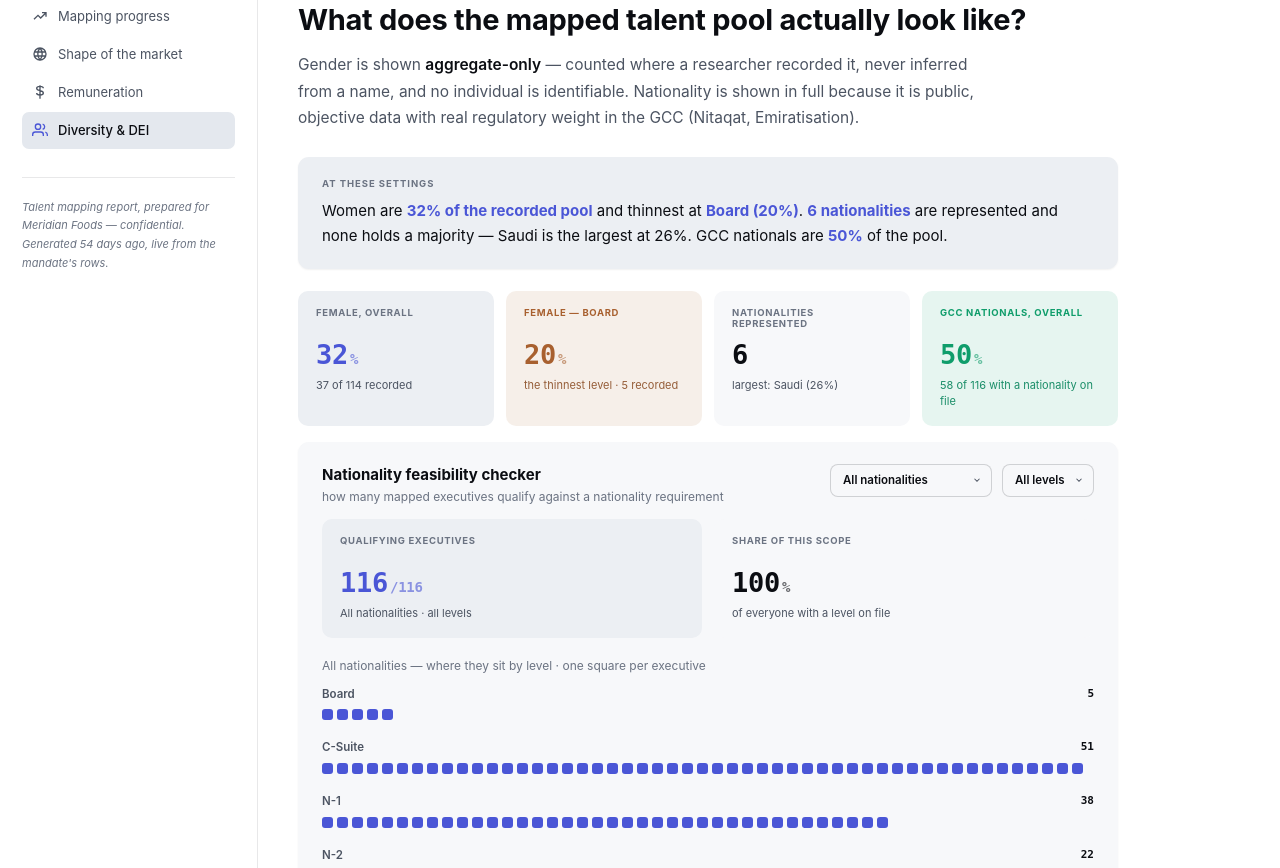
Test: ReportsPage › answers a nationality requirement with the executives who actually qualify
expect the text "6 nationalities" is shown: met, box [807, 201, 911, 220]
Select "GCC nationals" in the dropdown named "Nationality requirement": [911, 480] box [830, 464, 992, 497]
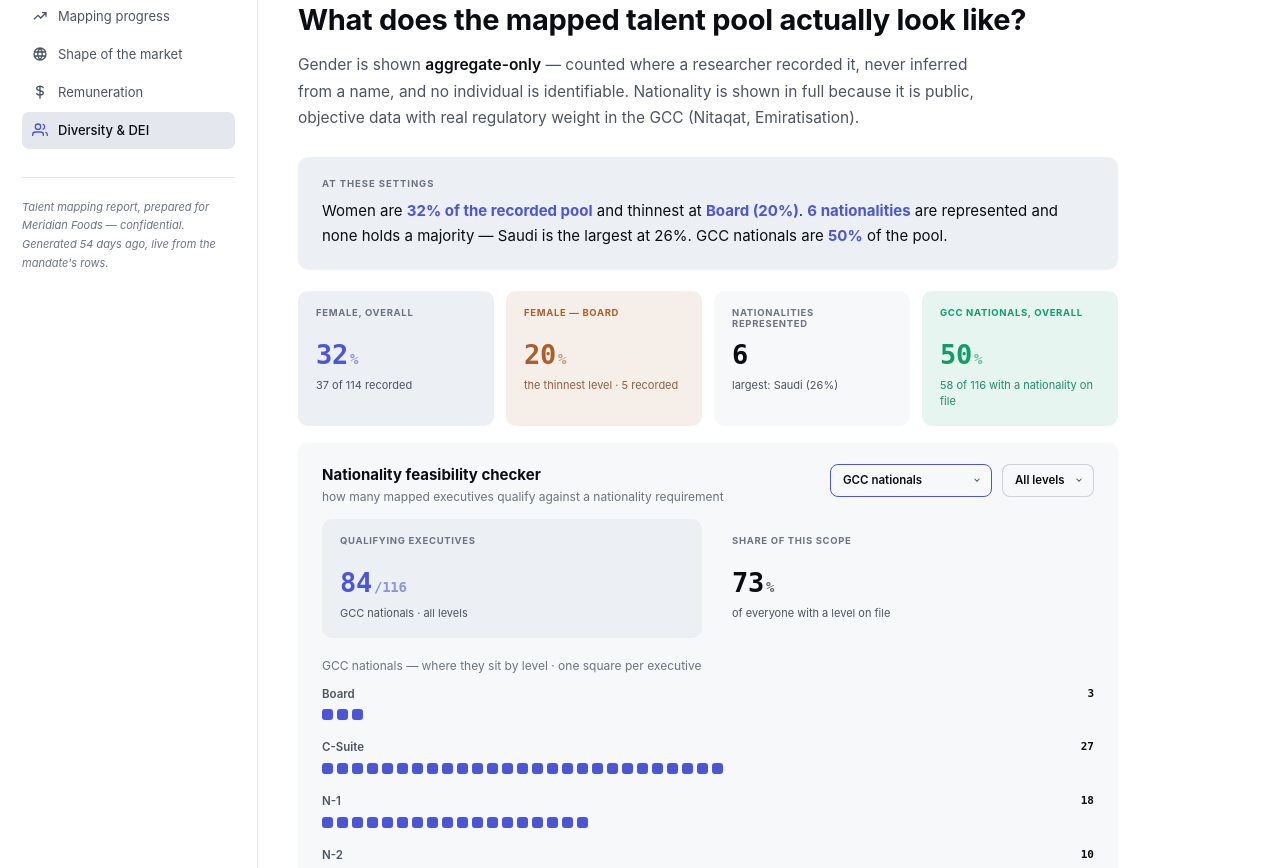
Select "C-Suite" in the dropdown named "Seniority level": [1048, 480] box [1002, 464, 1094, 497]
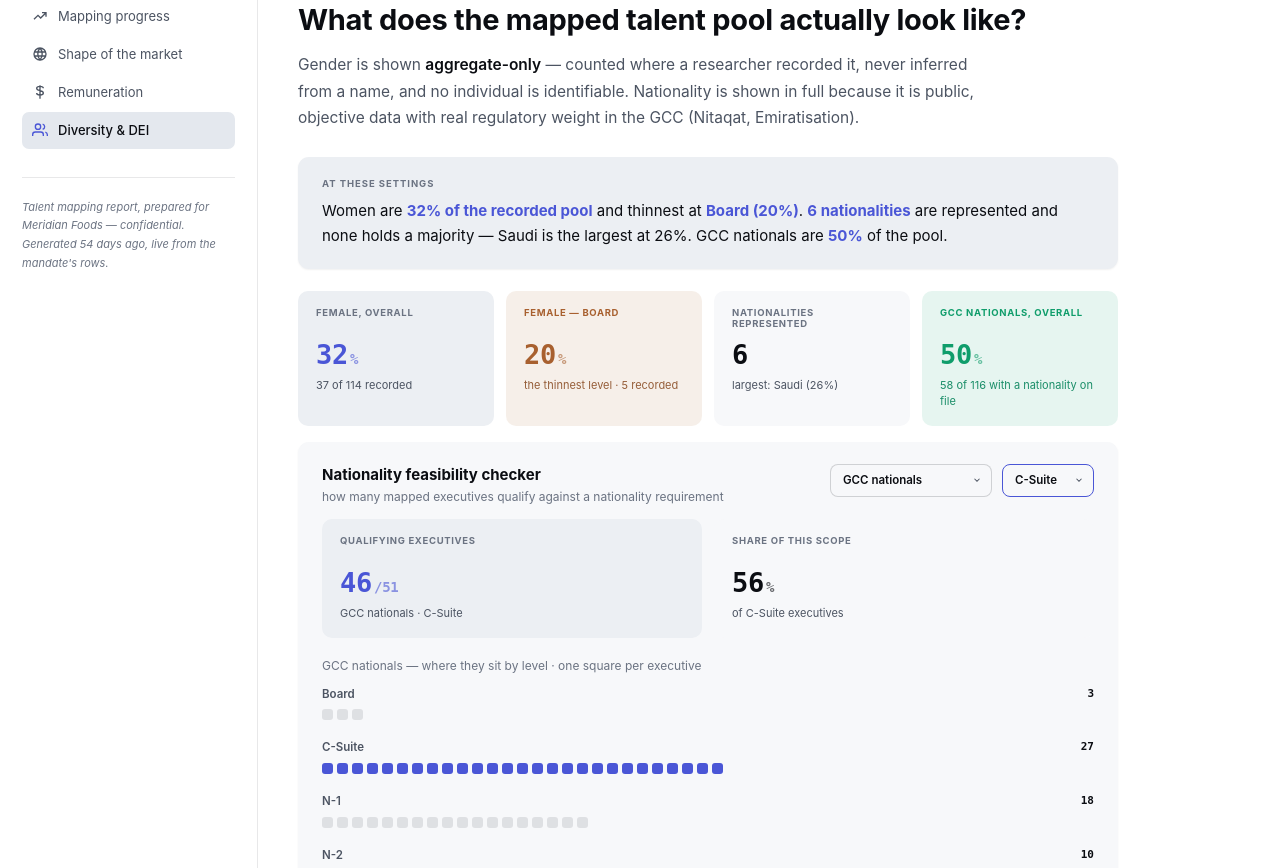
// An expat group is not a nationality, so the requirement is not worded as one.
Select "Arab expat, non-GCC" in the dropdown named "Nationality requirement": [911, 480] box [830, 464, 992, 497]
(page scrolled)
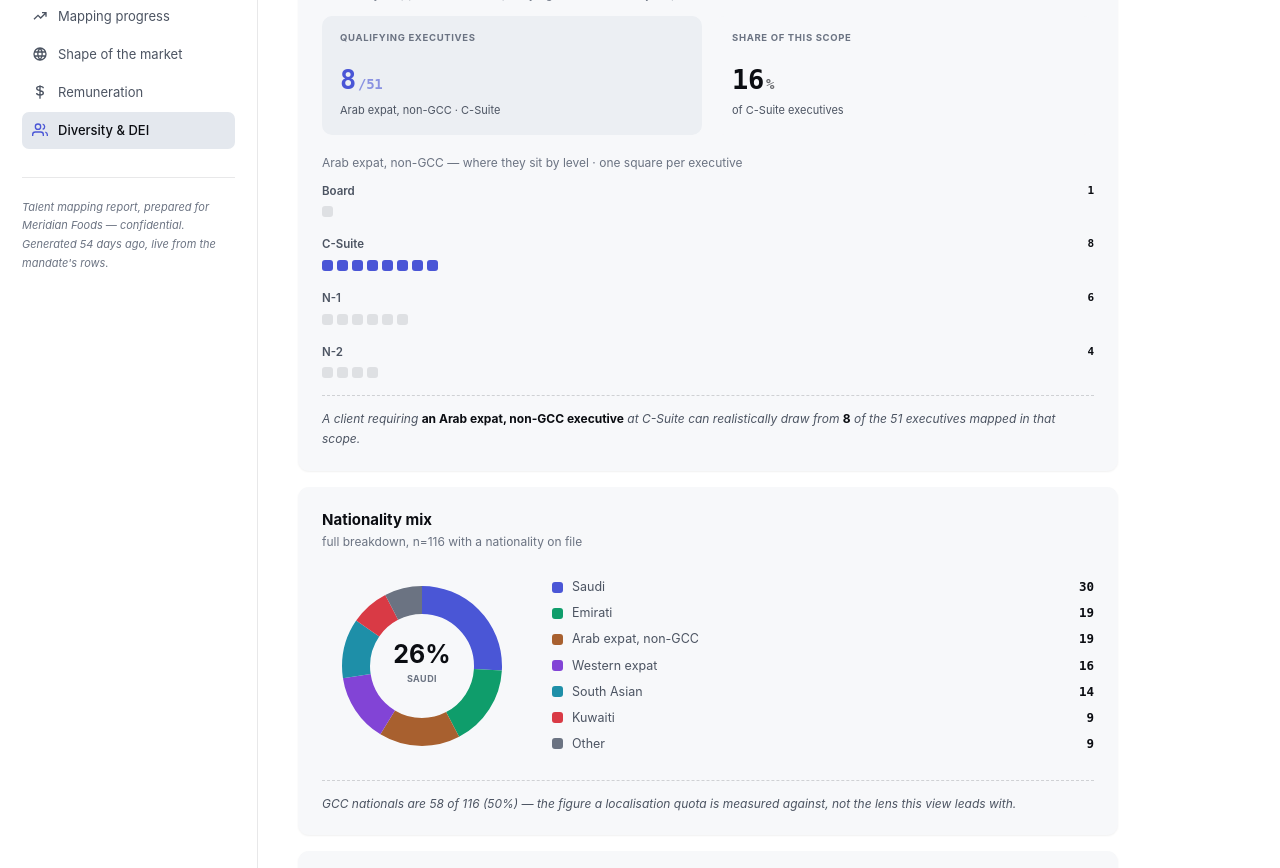
expect the text "an Arab expat, non-GCC executive" is shown: met, box [422, 411, 624, 426]
